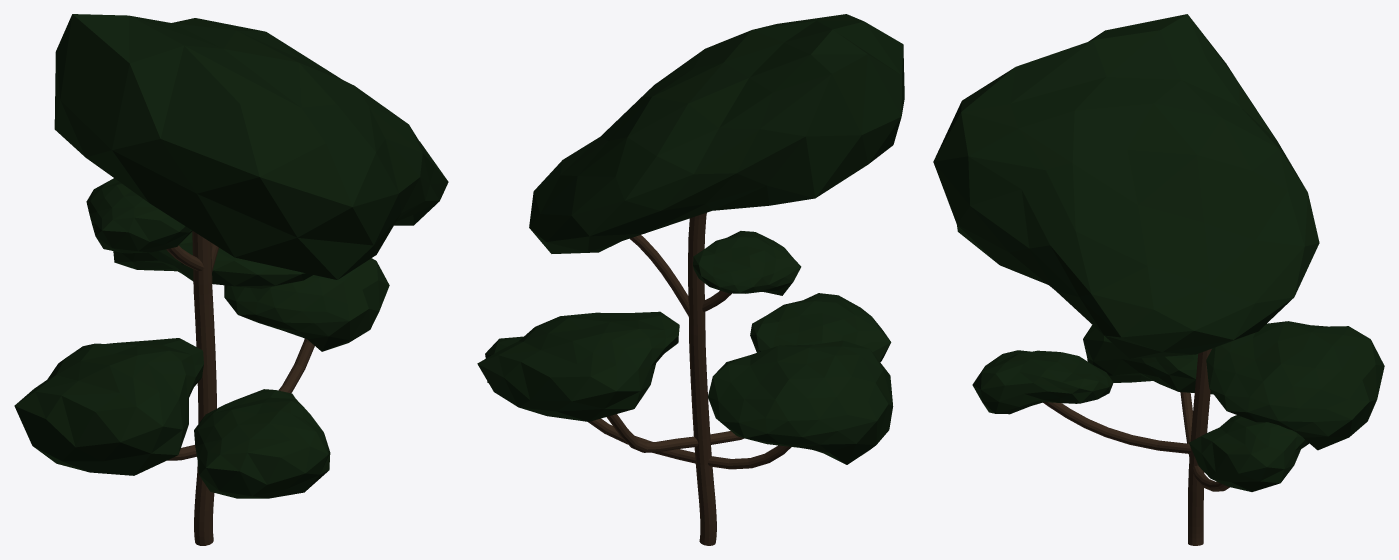
File: SM_light_tree_07.fbx
3 renders of one model, left to right at view 1: azimuth 30°, elevation 25°; view 2: azimuth 150°, elevation 25°; view 3: azimuth 270°, elevation 25°, orthographic. The views are drawn at different scales.
Visible parts, largest first — view 1: light_tree_07; view 2: light_tree_07; view 3: light_tree_07.
Part boxes in pixels (x1=…): light_tree_07: x1=14, y1=14, x2=448, y2=545; light_tree_07: x1=477, y1=14, x2=904, y2=545; light_tree_07: x1=933, y1=14, x2=1384, y2=545.
Size of the model in its own units: 55.28 by 74.04 by 63.8.
